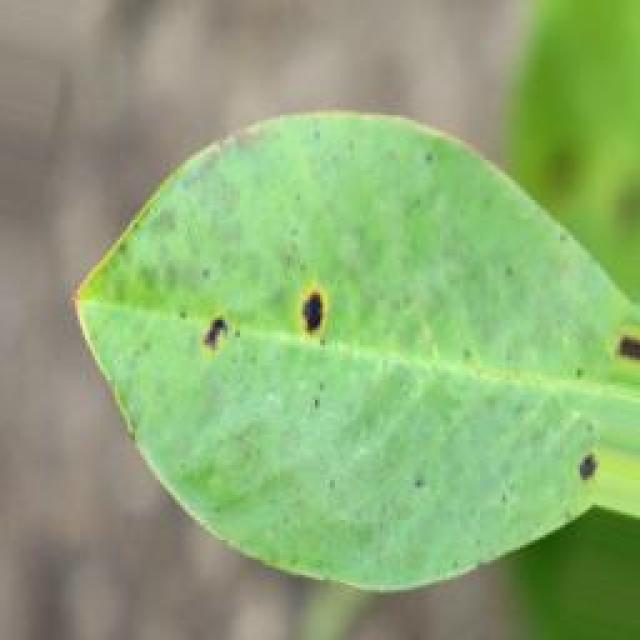Early_leaf_spot: (297, 258, 361, 360), (185, 305, 260, 380), (603, 321, 640, 382), (580, 432, 615, 492)
